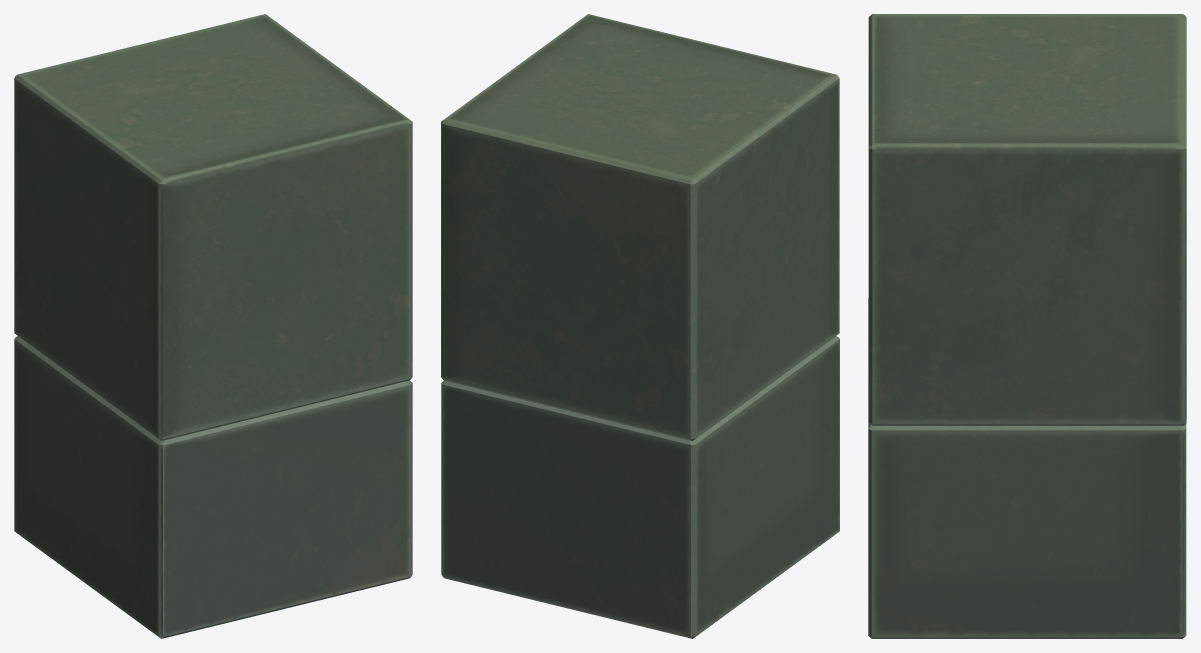
File: SniperAmmo.fbx
3 renders of one model, left to right at view 1: azimuth 30°, elevation 25°; view 2: azimuth 150°, elevation 25°; view 3: azimuth 270°, elevation 25°, orthographic. The views are drawn at different scales.
Parts seen in each view (by area): view 1: SniperAmmoBoxCover, SniperAmmoBox; view 2: SniperAmmoBoxCover, SniperAmmoBox; view 3: SniperAmmoBoxCover, SniperAmmoBox.
Boxes of the visible parts, left/top/right/bottom form: SniperAmmoBoxCover: left=14, top=14, right=412, bottom=440; SniperAmmoBox: left=14, top=336, right=412, bottom=638; SniperAmmoBoxCover: left=441, top=14, right=839, bottom=441; SniperAmmoBox: left=441, top=336, right=839, bottom=638; SniperAmmoBoxCover: left=868, top=14, right=1186, bottom=425; SniperAmmoBox: left=868, top=298, right=1186, bottom=638.
Size of the model in its own units: 0.078 by 0.1344 by 0.0785.
